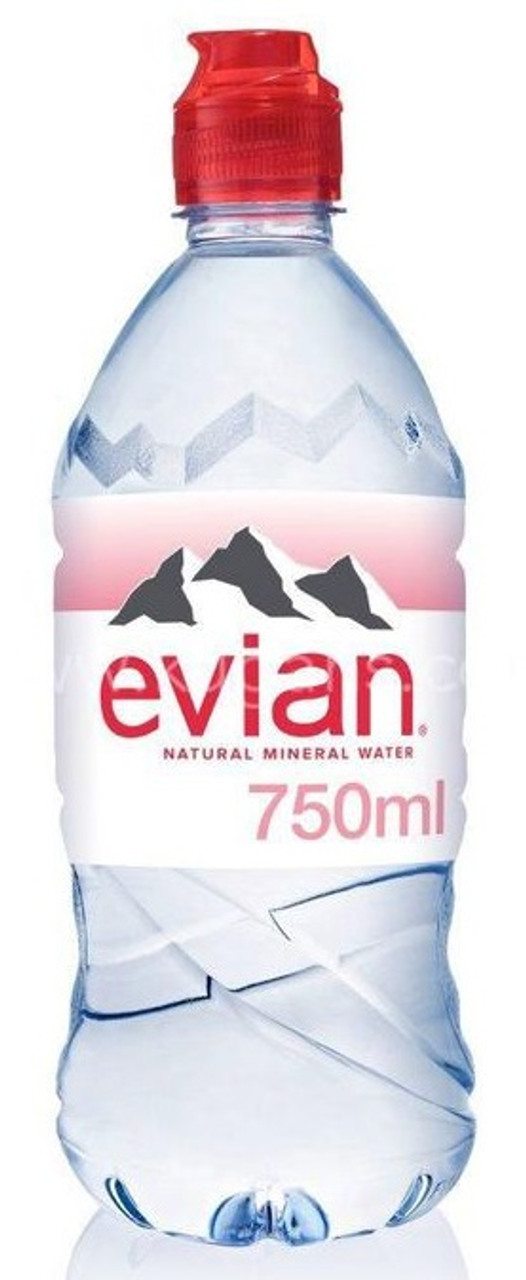PlasticBottle: (40, 15, 486, 1253)
